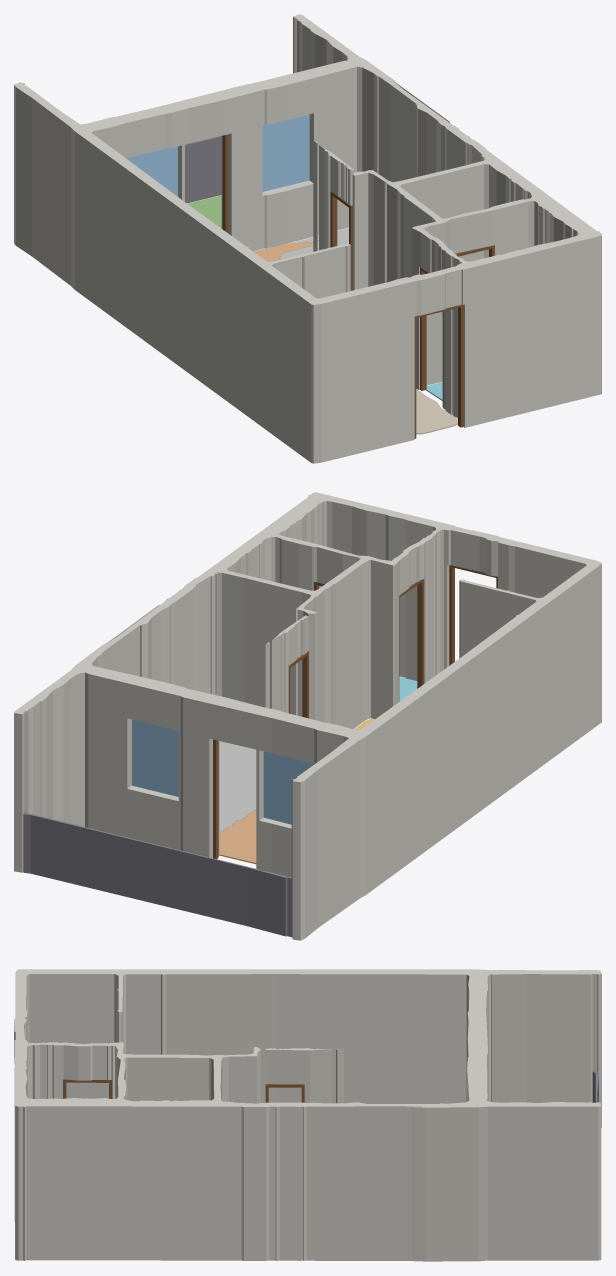
3 views of the same model, one above another, from view 1: azimuth 30°, elevation 25°; view 2: azimuth 150°, elevation 25°; view 3: azimuth 270°, elevation 25° (orthographic). The views are drawn at different scales.
Visible parts, largest first — view 1: walls, window_6, railings, window_5, door_4, floor_6_Entry, door_1, door_3, door_0, floor_0_Outdoor; view 2: walls, railings, window_6, floor_3_Bed_Room, window_5, floor_2_Living_Room, door_3, door_4, door_0, door_1; view 3: walls.
Part boxes in pixels (left/top/right/bottom): walls: left=14, top=14, right=601, bottom=463; window_6: left=262, top=114, right=309, bottom=191; railings: left=185, top=136, right=221, bottom=203; window_5: left=126, top=146, right=177, bottom=196; door_4: left=414, top=304, right=463, bottom=438; floor_6_Entry: left=416, top=389, right=457, bottom=434; door_1: left=330, top=191, right=352, bottom=290; door_3: left=420, top=267, right=443, bottom=407; door_0: left=222, top=134, right=228, bottom=232; floor_0_Outdoor: left=187, top=195, right=221, bottom=228; walls: left=14, top=492, right=601, bottom=940; railings: left=23, top=811, right=291, bottom=936; window_6: left=132, top=719, right=178, bottom=796; floor_3_Bed_Room: left=219, top=741, right=256, bottom=832; window_5: left=263, top=751, right=314, bottom=824; floor_2_Living_Room: left=219, top=809, right=256, bottom=864; door_3: left=399, top=579, right=423, bottom=701; door_4: left=449, top=565, right=497, bottom=665; door_0: left=213, top=739, right=218, bottom=858; door_1: left=288, top=651, right=308, bottom=718; walls: left=14, top=969, right=601, bottom=1261.
Bounding box in the file's own units: 5.2 × 2.72 × 9.35.
